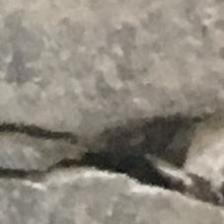Crack: (0, 97, 224, 224)
